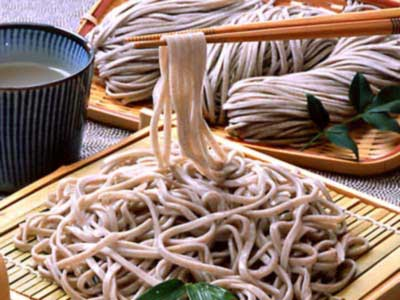Soba: (32, 152, 337, 300), (228, 52, 378, 147), (84, 2, 222, 99), (151, 34, 220, 193)
